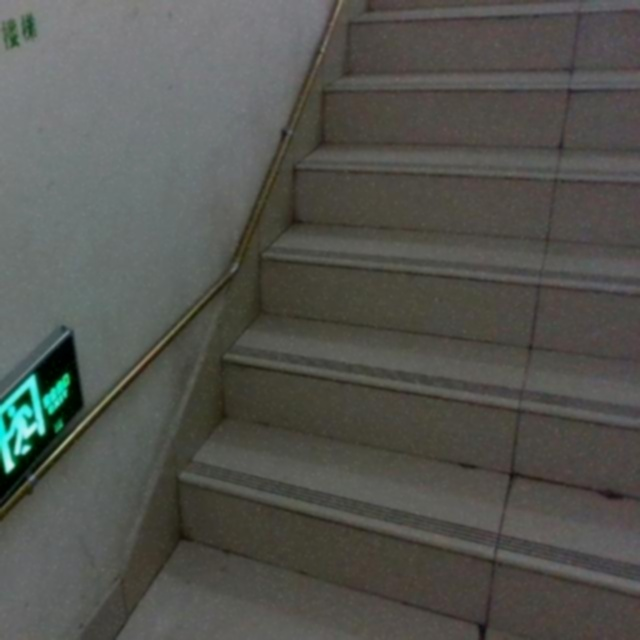stair: (209, 40, 640, 569)
